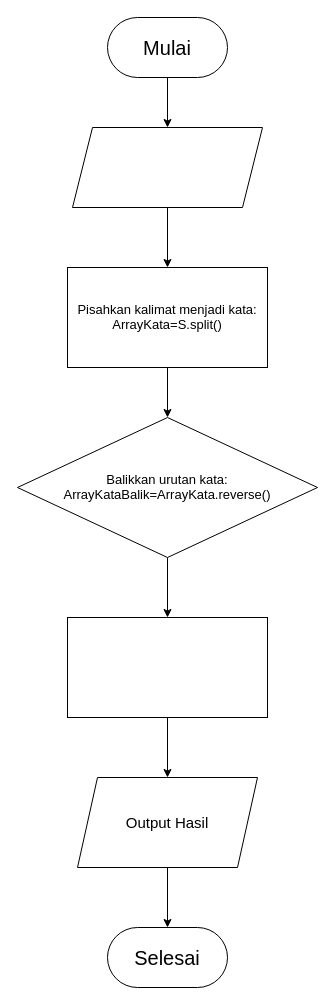
Image size: 335x1005. Some labels were removed from this diagram. Each missing label, with the centre of its shape:
Gabungkan kembali kata yang sudah dibalik: KalimatBalik=ArrayKataBalik.join(): the point at 167,667
Input Kalimat: the point at 167,167
